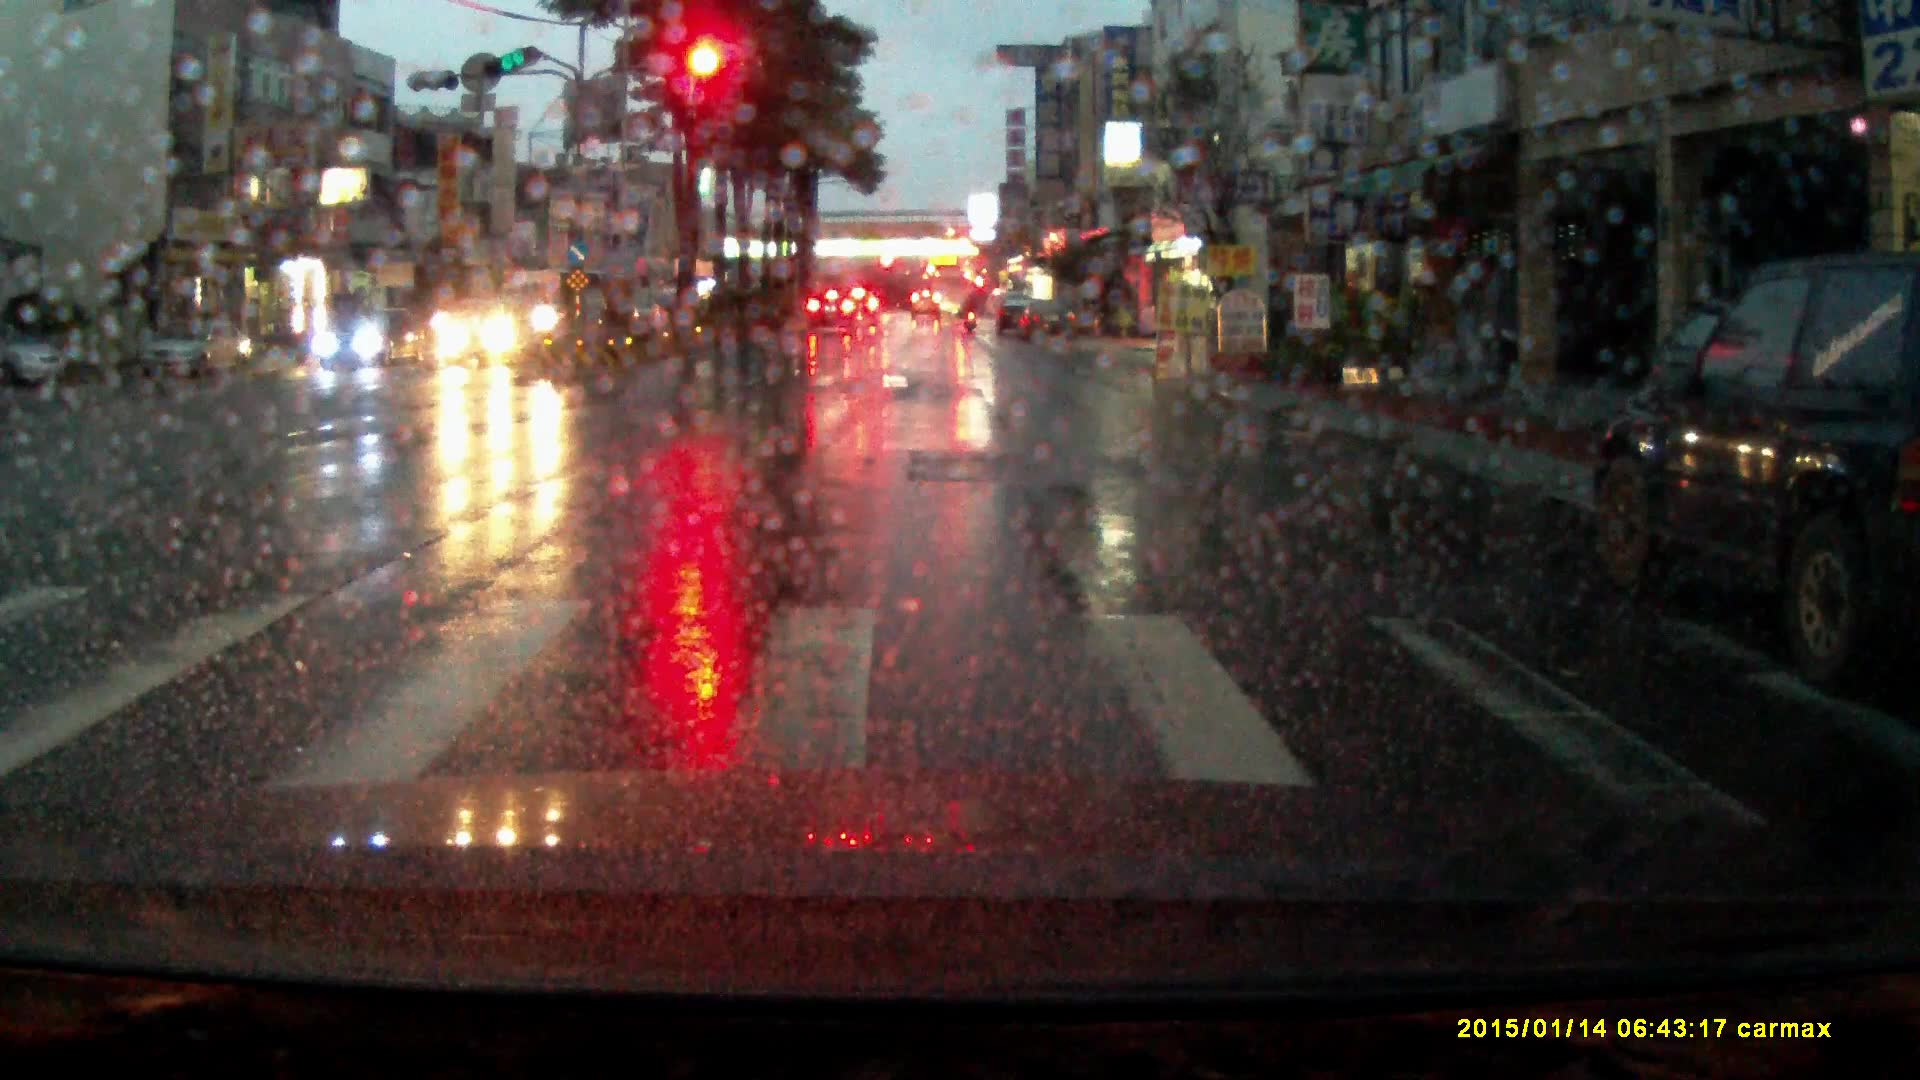rider: (964, 286, 984, 335)
vehicle: (1582, 248, 1920, 683), (431, 298, 546, 370), (315, 306, 428, 375), (142, 314, 253, 380), (494, 268, 591, 341), (574, 288, 664, 340), (1, 331, 69, 389), (1017, 300, 1079, 346), (931, 264, 973, 321), (807, 290, 859, 336), (995, 295, 1030, 338), (851, 289, 881, 327), (911, 291, 943, 322)
